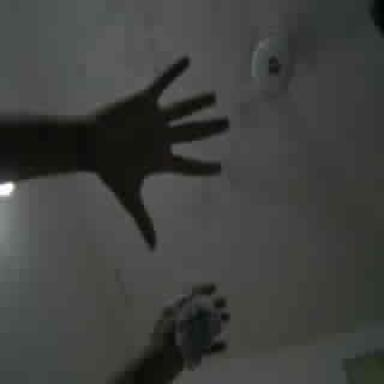paper: (175, 298, 221, 368)
